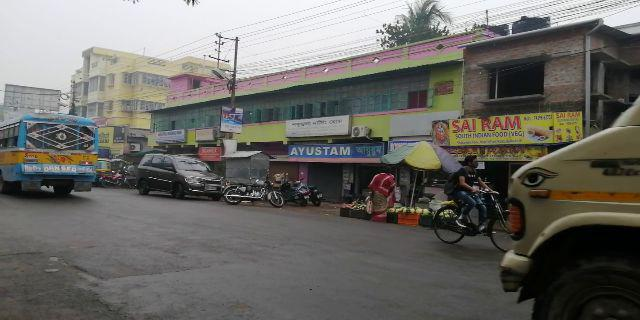Bus: (1, 114, 102, 190)
Car: (133, 155, 223, 205)
Cycle: (429, 162, 510, 254)
Motorbike: (231, 180, 288, 211)
Truck: (502, 83, 640, 320)
